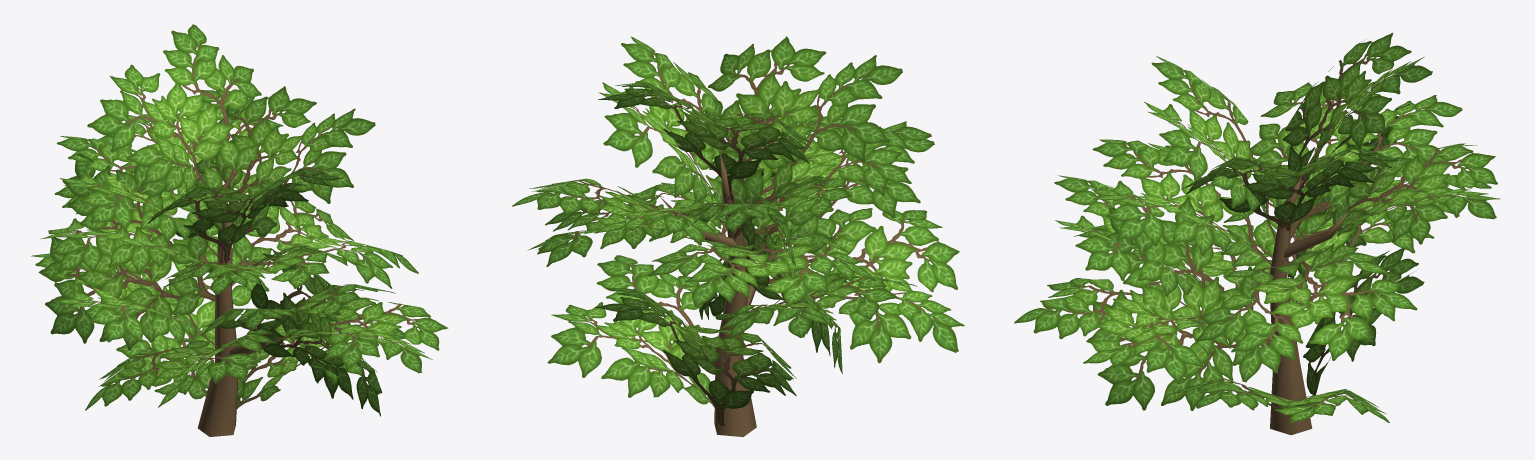
File: Ctn_GroundBush_01_v03.FBX
3 views of the same model, side by side, from view 1: azimuth 30°, elevation 25°; view 2: azimuth 150°, elevation 25°; view 3: azimuth 270°, elevation 25° (orthographic). The views are drawn at different scales.
Parts seen in each view (by area): view 1: Ctn_GroundBush_01_v03; view 2: Ctn_GroundBush_01_v03; view 3: Ctn_GroundBush_01_v03.
Part boxes in pixels (bbox=[...]): Ctn_GroundBush_01_v03: bbox=[31, 24, 448, 436]; Ctn_GroundBush_01_v03: bbox=[512, 36, 964, 437]; Ctn_GroundBush_01_v03: bbox=[1014, 32, 1500, 435].
Bounding box in the file's own units: 92.75 × 87.65 × 102.
